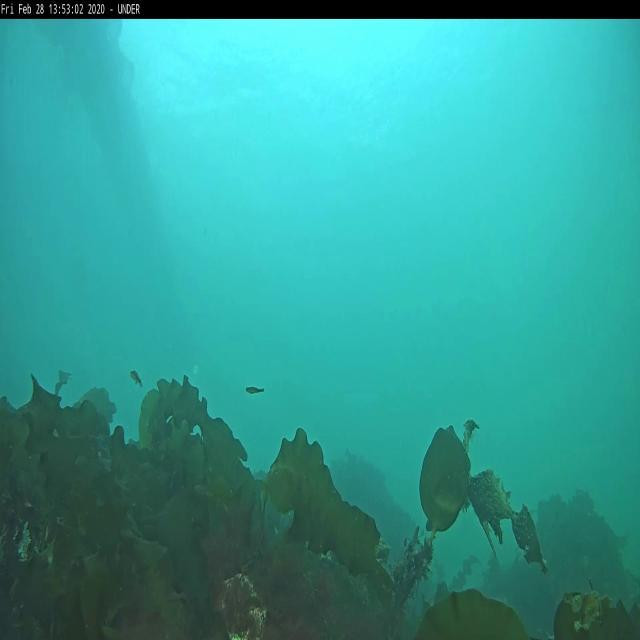fish: (129, 371, 145, 386), (244, 385, 267, 394)
